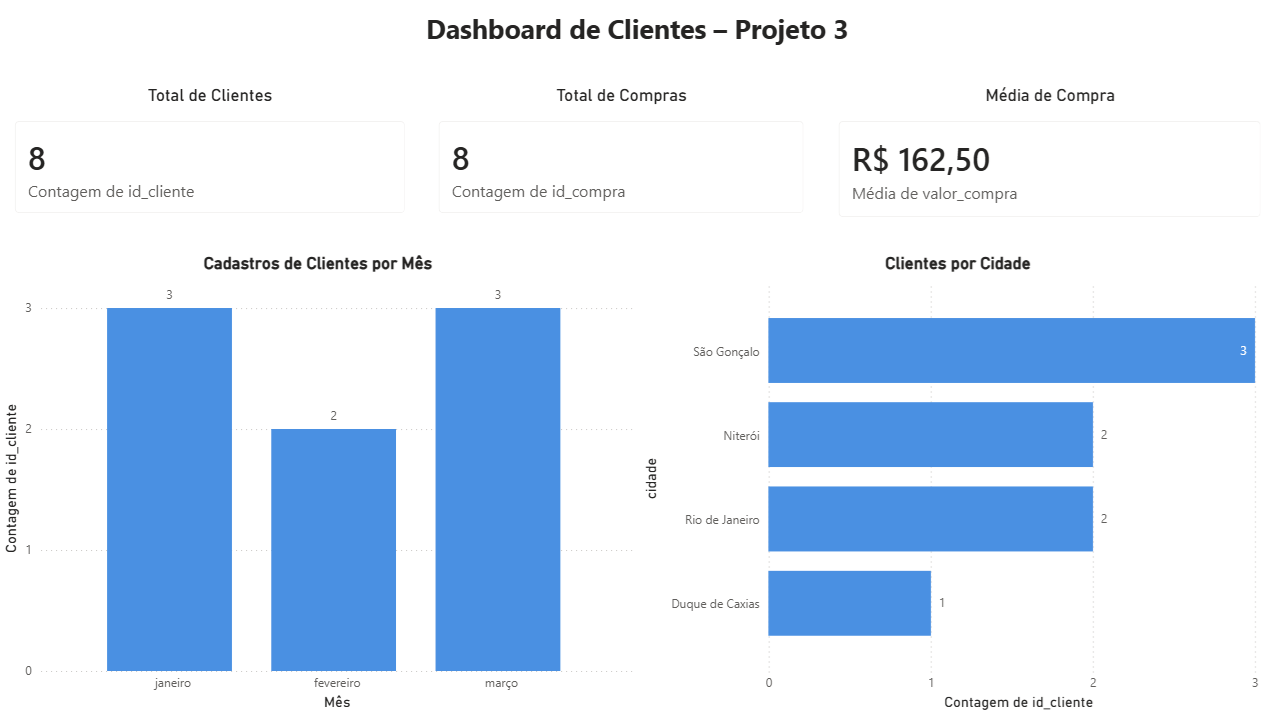

What the dashboard file says about the page in this screenshot:
{"tool":"powerbi","page":{"name":"Dashboard Clientes","canvas":[1280,720],"ordinal":0},"visuals":[{"type":"clusteredColumnChart","title":"Cadastros de Clientes por Mês","fields":{"Category":["Clientes.data_cadastro.Variation.Hierarquia de datas.Mês"],"Y":["CountNonNull(Clientes.id_cliente)"]},"box":[0,257.5,640,462.5],"z":0},{"type":"clusteredBarChart","title":"Clientes por Cidade","fields":{"Category":["Clientes.cidade"],"Y":["CountNonNull(Clientes.id_cliente)"]},"box":[640,257.5,640,462.5],"z":1000},{"type":"cardVisual","title":"Total de Clientes","fields":{"Data":["CountNonNull(Clientes.id_cliente)"]},"box":[0,90.6,424,145.5],"z":1001},{"type":"cardVisual","title":"Total de Compras","fields":{"Data":["CountNonNull(Compras.id_compra)"]},"box":[424,90.6,399.3,145.5],"z":1002},{"type":"cardVisual","title":"Média de Compra","fields":{"Data":["Avg(Compras.valor_compra)"]},"box":[823.3,90.6,456.9,149.6],"z":1003},{"type":"textbox","box":[8.8,10,1261.2,80],"z":1004}]}

Visuals, with their boxes in screenshot pixels (x1, y1, x2, y2), scaled from the page's 1280x720 canvas onto the 1269x722 screenshot:
"Cadastros de Clientes por Mês" clusteredColumnChart: [0,258,634,721]
"Clientes por Cidade" clusteredBarChart: [634,258,1268,721]
"Total de Clientes" cardVisual: [0,91,420,237]
"Total de Compras" cardVisual: [420,91,816,237]
"Média de Compra" cardVisual: [816,91,1268,241]
textbox: [9,10,1259,90]
